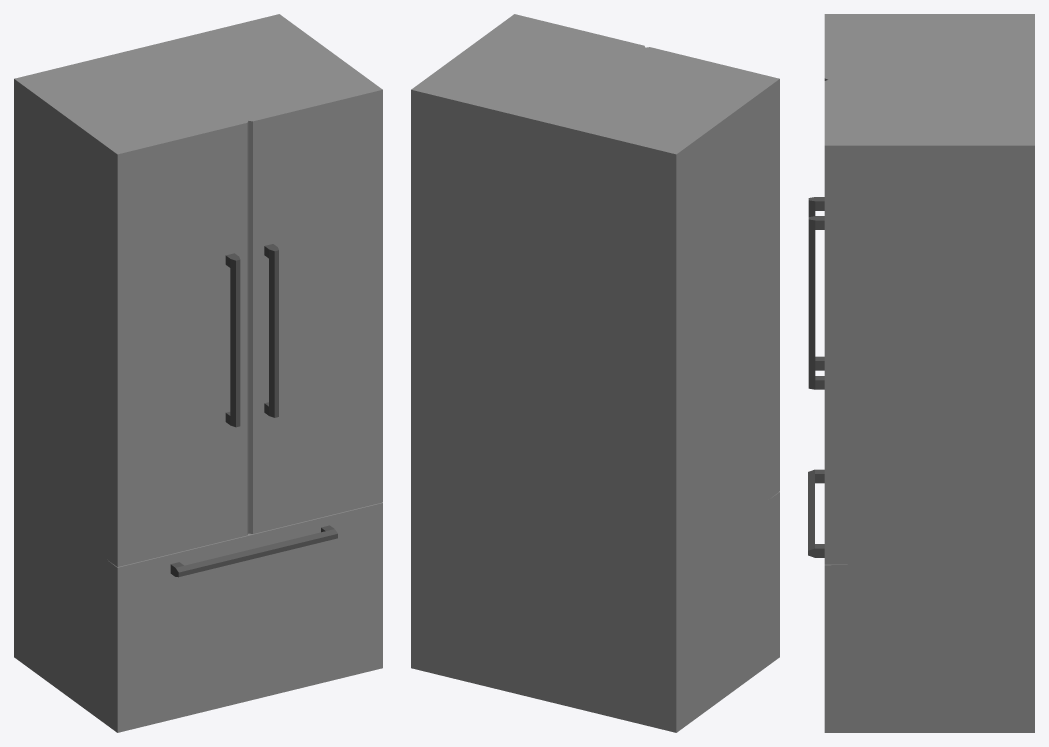
File: Fridge_1.fbx
The picture shows the model from 3 angles, left to right: view 1: azimuth 30°, elevation 25°; view 2: azimuth 150°, elevation 25°; view 3: azimuth 270°, elevation 25°; orthographic projection.
Parts seen in each view (by area): view 1: Fridge_1; view 2: Fridge_1; view 3: Fridge_1.
Part boxes in pixels (x1,y1,x2,y2): Fridge_1: [14, 14, 382, 732]; Fridge_1: [411, 14, 779, 732]; Fridge_1: [808, 14, 1034, 732].
Bounding box in the file's own units: 120 × 87.23 × 249.
